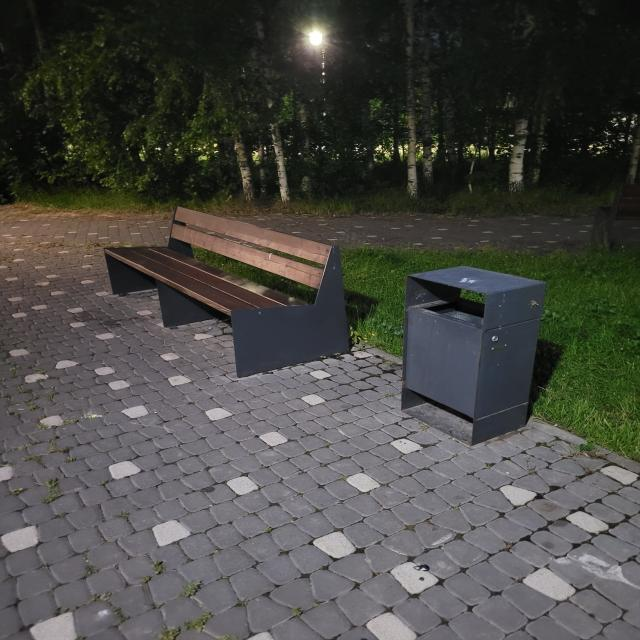Bench: (104, 206, 350, 378)
